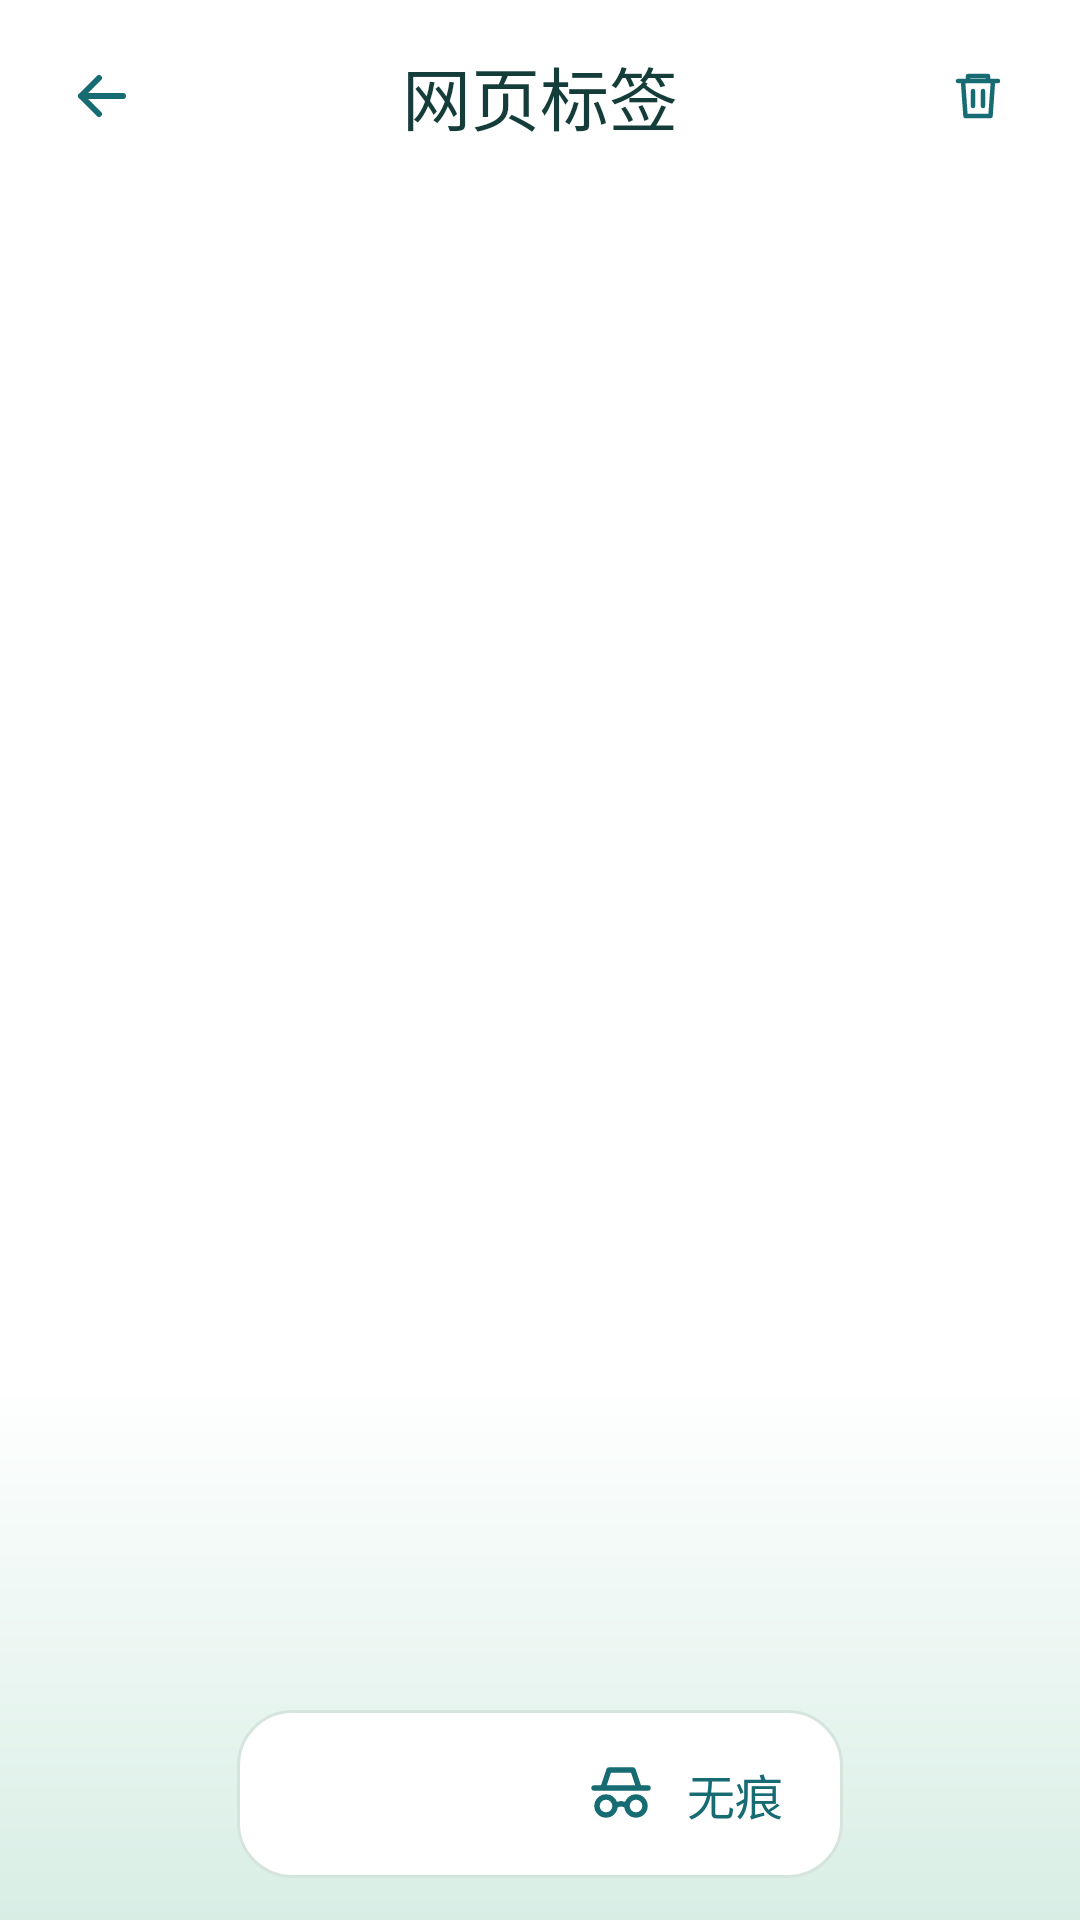

Named icons in this screenshot (1080px x 1920px) and their bounding boxes, (x1, y1, x2, y2):
关闭全部窗口: (955, 73, 1000, 119)
后退: (78, 75, 126, 117)
